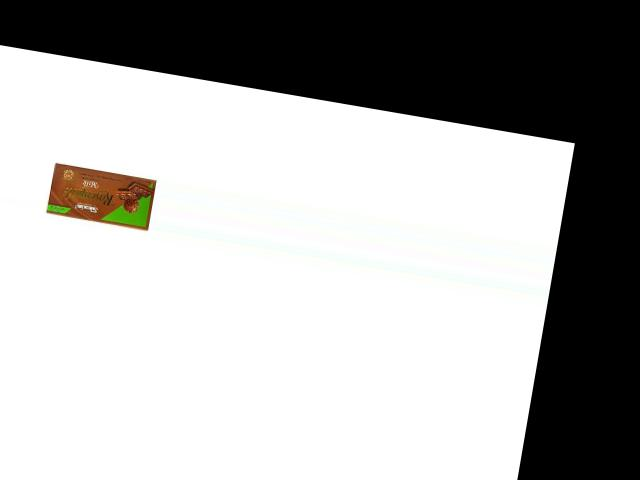chocolate: (42, 160, 158, 234)
